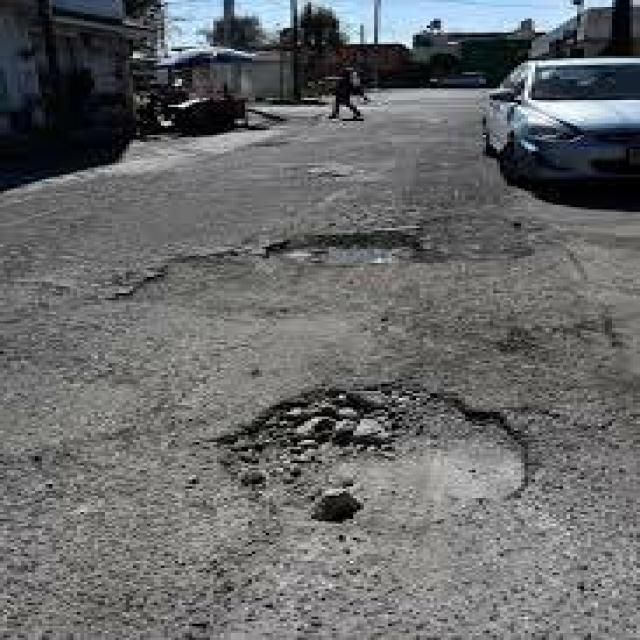Pothole: (88, 198, 588, 568)
